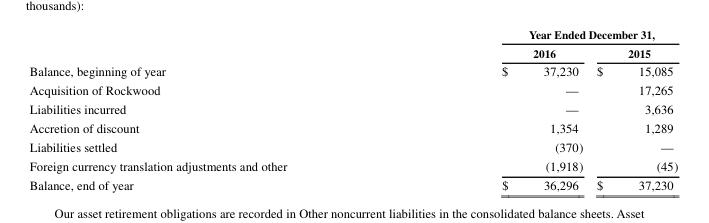table: (28, 28, 677, 191)
table column: (28, 28, 393, 191), (393, 28, 589, 191), (589, 28, 677, 191)
table column header: (28, 28, 677, 62)
table row: (28, 43, 677, 62), (28, 62, 677, 81), (28, 81, 677, 100), (28, 100, 677, 119), (28, 119, 677, 138), (28, 156, 677, 175), (28, 138, 677, 156), (28, 175, 677, 191), (28, 28, 677, 43)
table spanning cell: (393, 28, 677, 43)
